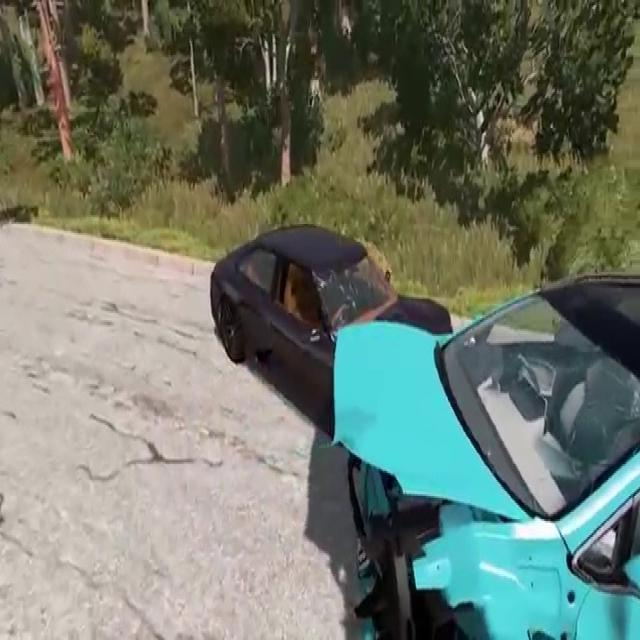accident: (195, 217, 640, 629)
